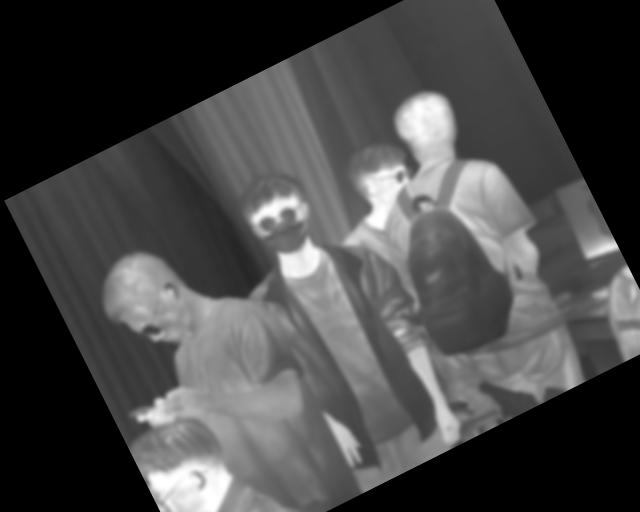face: (85, 236, 207, 369), (231, 162, 328, 267)
